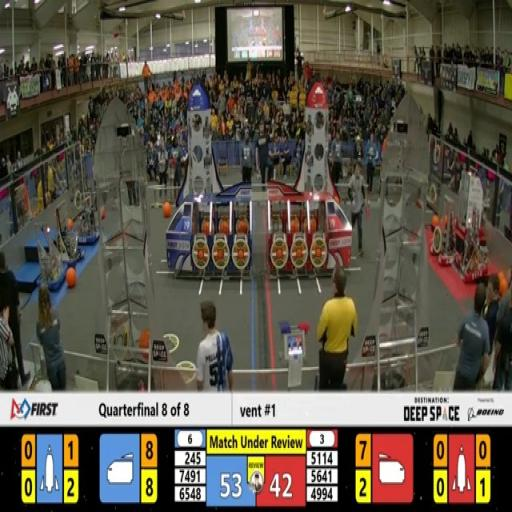robot: (36, 224, 68, 291), (452, 219, 488, 278), (54, 202, 86, 267), (432, 190, 458, 265), (456, 166, 482, 241), (74, 187, 104, 246)
